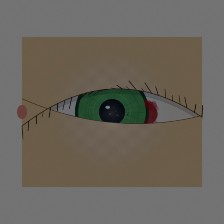hemorrhage_spot: (106, 90, 166, 138)
